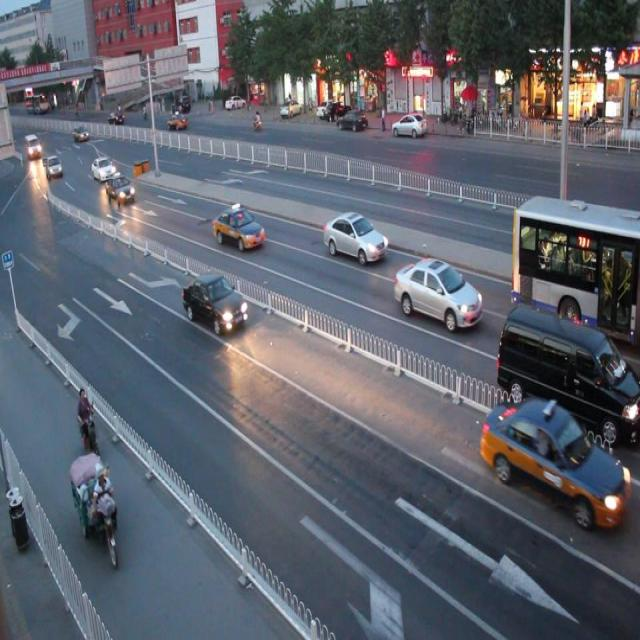car: (483, 394, 629, 528), (394, 255, 483, 332), (182, 271, 247, 332), (324, 211, 387, 265), (213, 203, 266, 251)
truck: (496, 300, 640, 446)
van: (510, 193, 640, 350)
